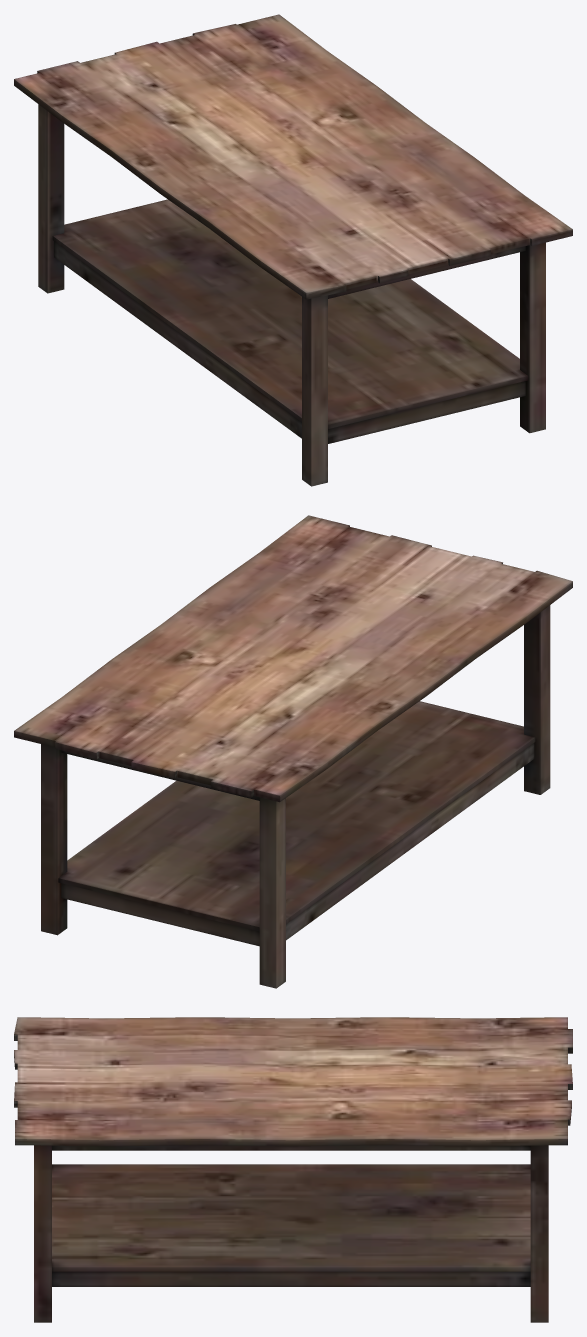
File: table_shed.glb
The picture shows the model from 3 angles, top to bottom: view 1: azimuth 30°, elevation 25°; view 2: azimuth 150°, elevation 25°; view 3: azimuth 270°, elevation 25°; orthographic projection. The views are drawn at different scales.
Parts seen in each view (by area): view 1: 0_table_shed; view 2: 0_table_shed; view 3: 0_table_shed.
Part boxes in pixels (bbox=[...]): 0_table_shed: bbox=[14, 14, 572, 486]; 0_table_shed: bbox=[14, 515, 572, 988]; 0_table_shed: bbox=[14, 1017, 572, 1322].
Size of the model in its own units: 1.22 by 0.8915 by 2.36.
Materials: 1 (1 with a texture image).
